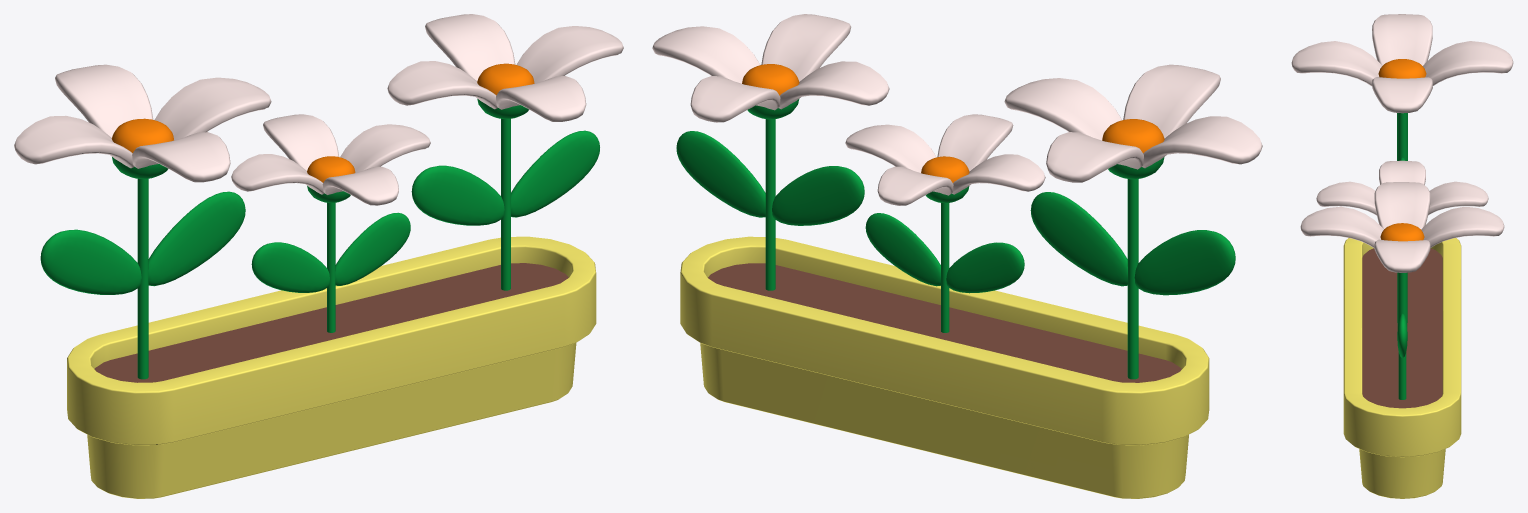
Rendered from Farm_15_Flowers_1.glb.
3 views of the same model, side by side, from view 1: azimuth 30°, elevation 25°; view 2: azimuth 150°, elevation 25°; view 3: azimuth 270°, elevation 25° (orthographic). The views are drawn at different scales.
Parts seen in each view (by area): view 1: Farm_15_Flowers_1; view 2: Farm_15_Flowers_1; view 3: Farm_15_Flowers_1.
Boxes of the visible parts, x1,y1,x2,y2 form: Farm_15_Flowers_1: [14, 14, 623, 498]; Farm_15_Flowers_1: [652, 14, 1262, 498]; Farm_15_Flowers_1: [1291, 14, 1513, 498].
Size of the model in its own units: 1.99 by 1.16 by 0.8198.
Materials: 1 (1 with a texture image).
